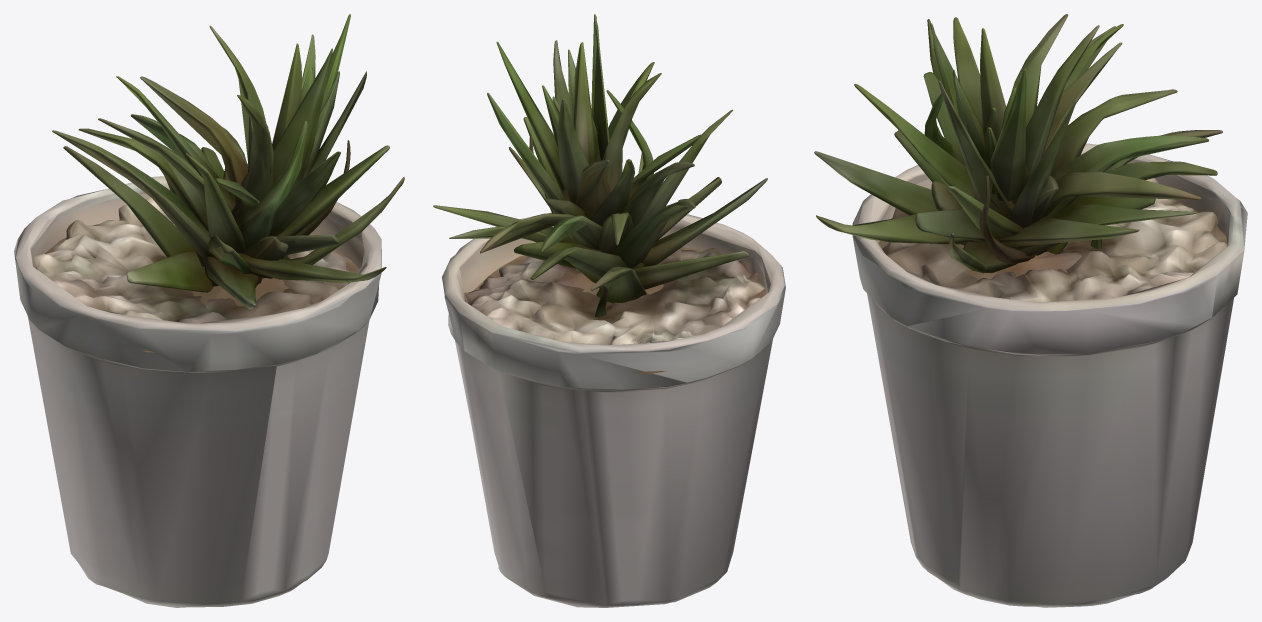
3 views of the same model, side by side, from view 1: azimuth 30°, elevation 25°; view 2: azimuth 150°, elevation 25°; view 3: azimuth 270°, elevation 25° (orthographic). The views are drawn at different scales.
Visible parts, largest first — view 1: potted_plant_04; view 2: potted_plant_04; view 3: potted_plant_04.
Boxes of the visible parts, x1,y1,x2,y2 form: potted_plant_04: (14,14,404,607); potted_plant_04: (433,14,785,607); potted_plant_04: (814,14,1247,607).
Size of the model in its own units: 0.167 by 0.2666 by 0.1821.
1 material, 1 textured.
